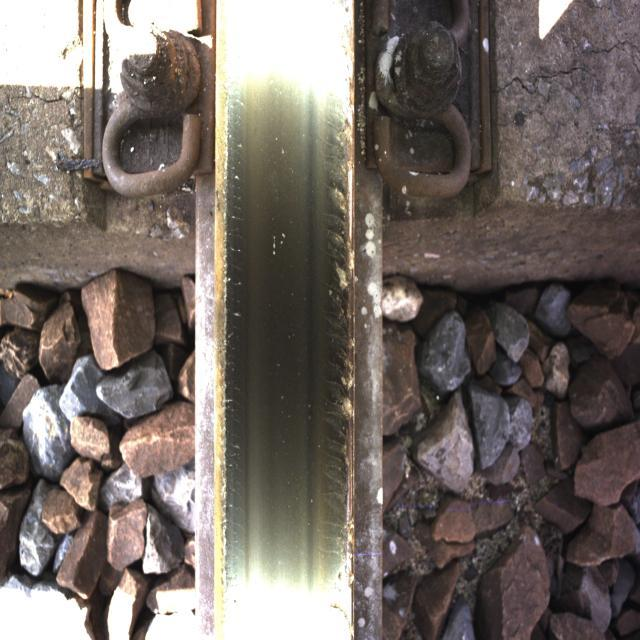normal: (229, 13, 351, 628)
